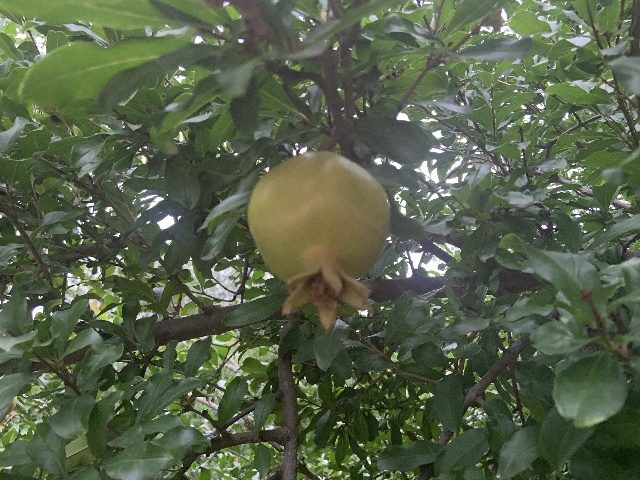mid-growth: (246, 151, 390, 334)
